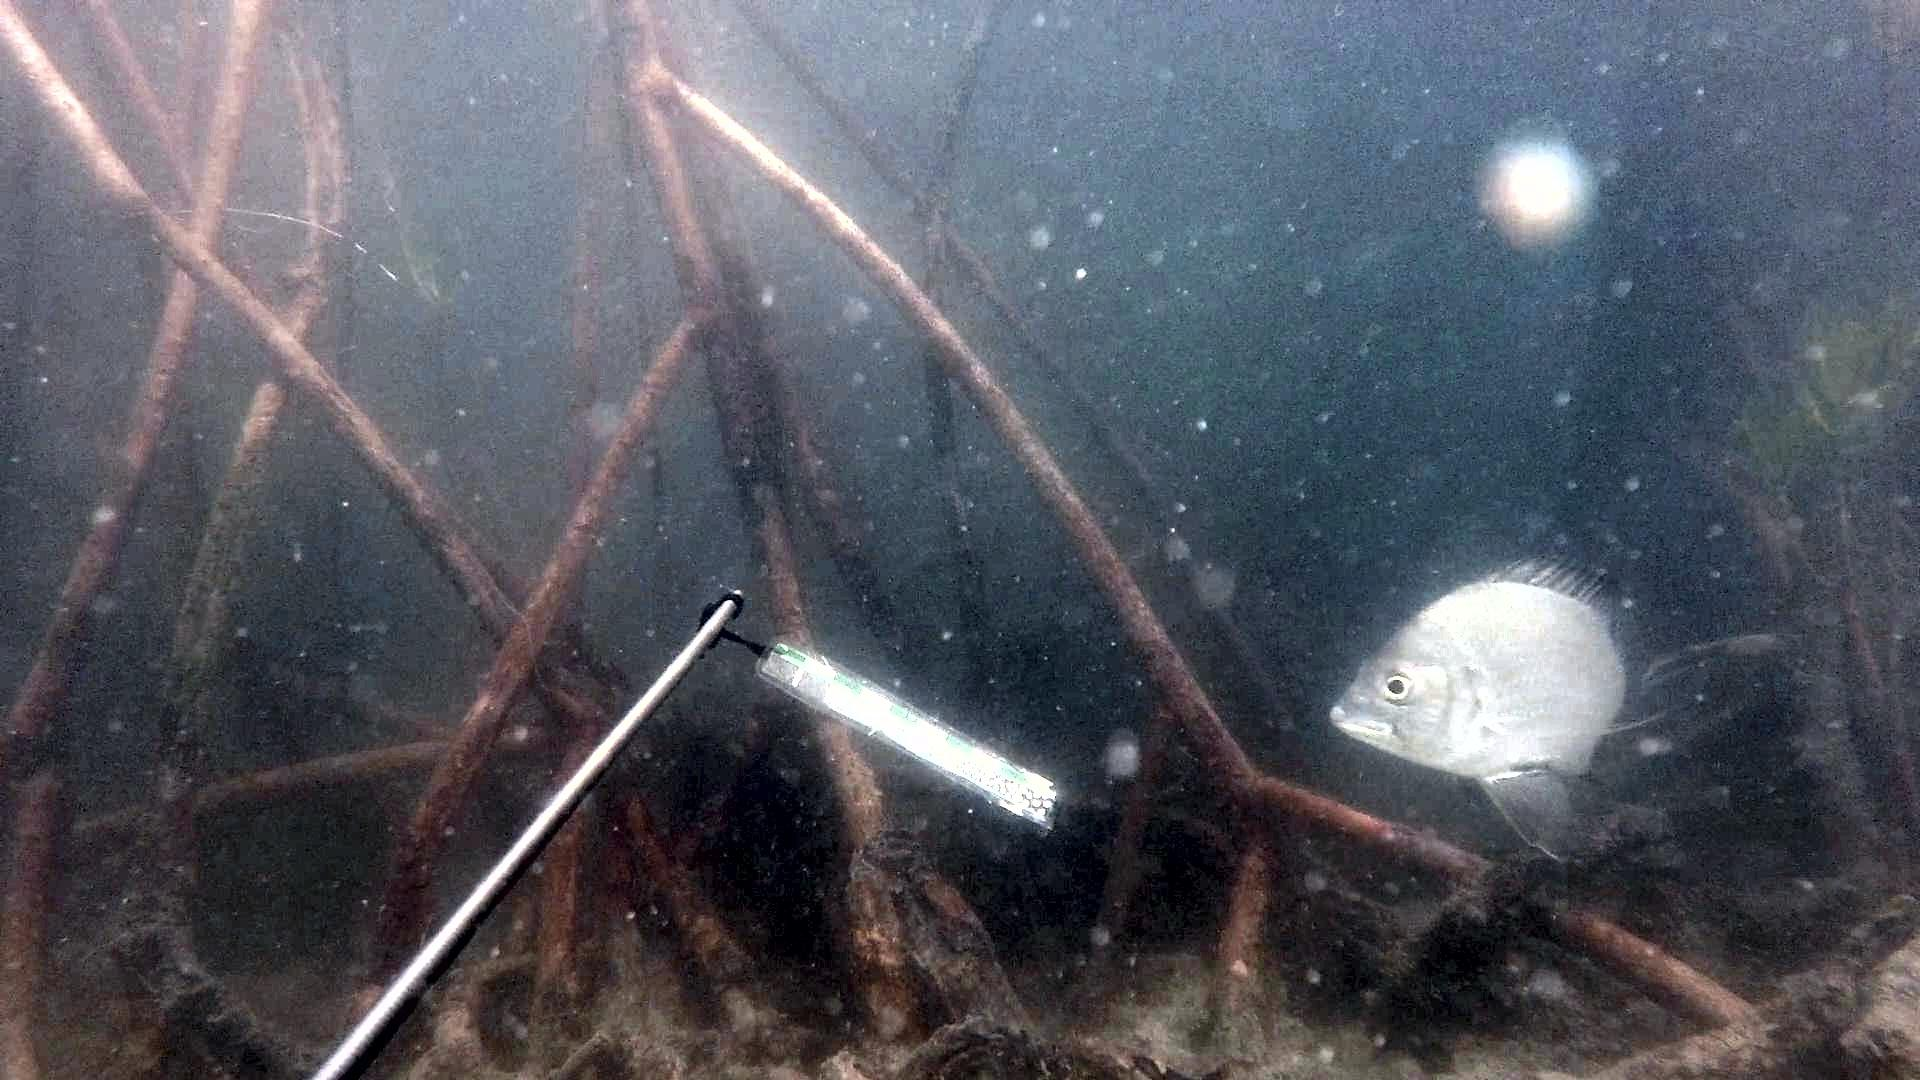acanthopagrus palmaris: (1324, 555, 1656, 872)
